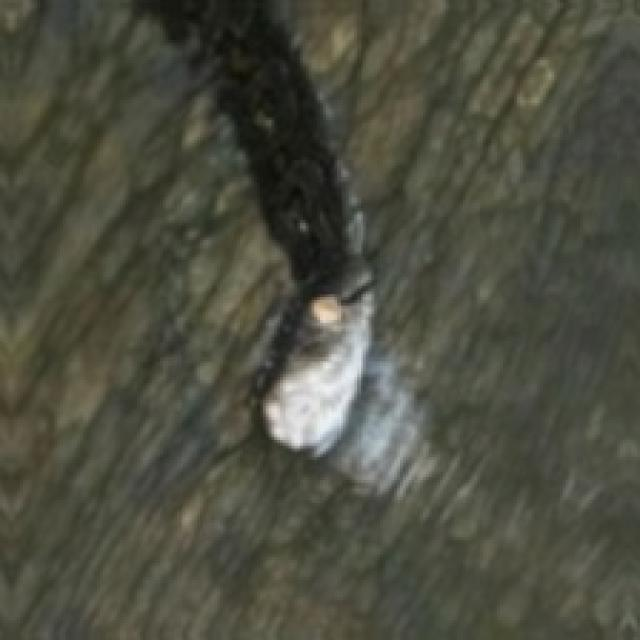reticulated python: (134, 0, 371, 454)
